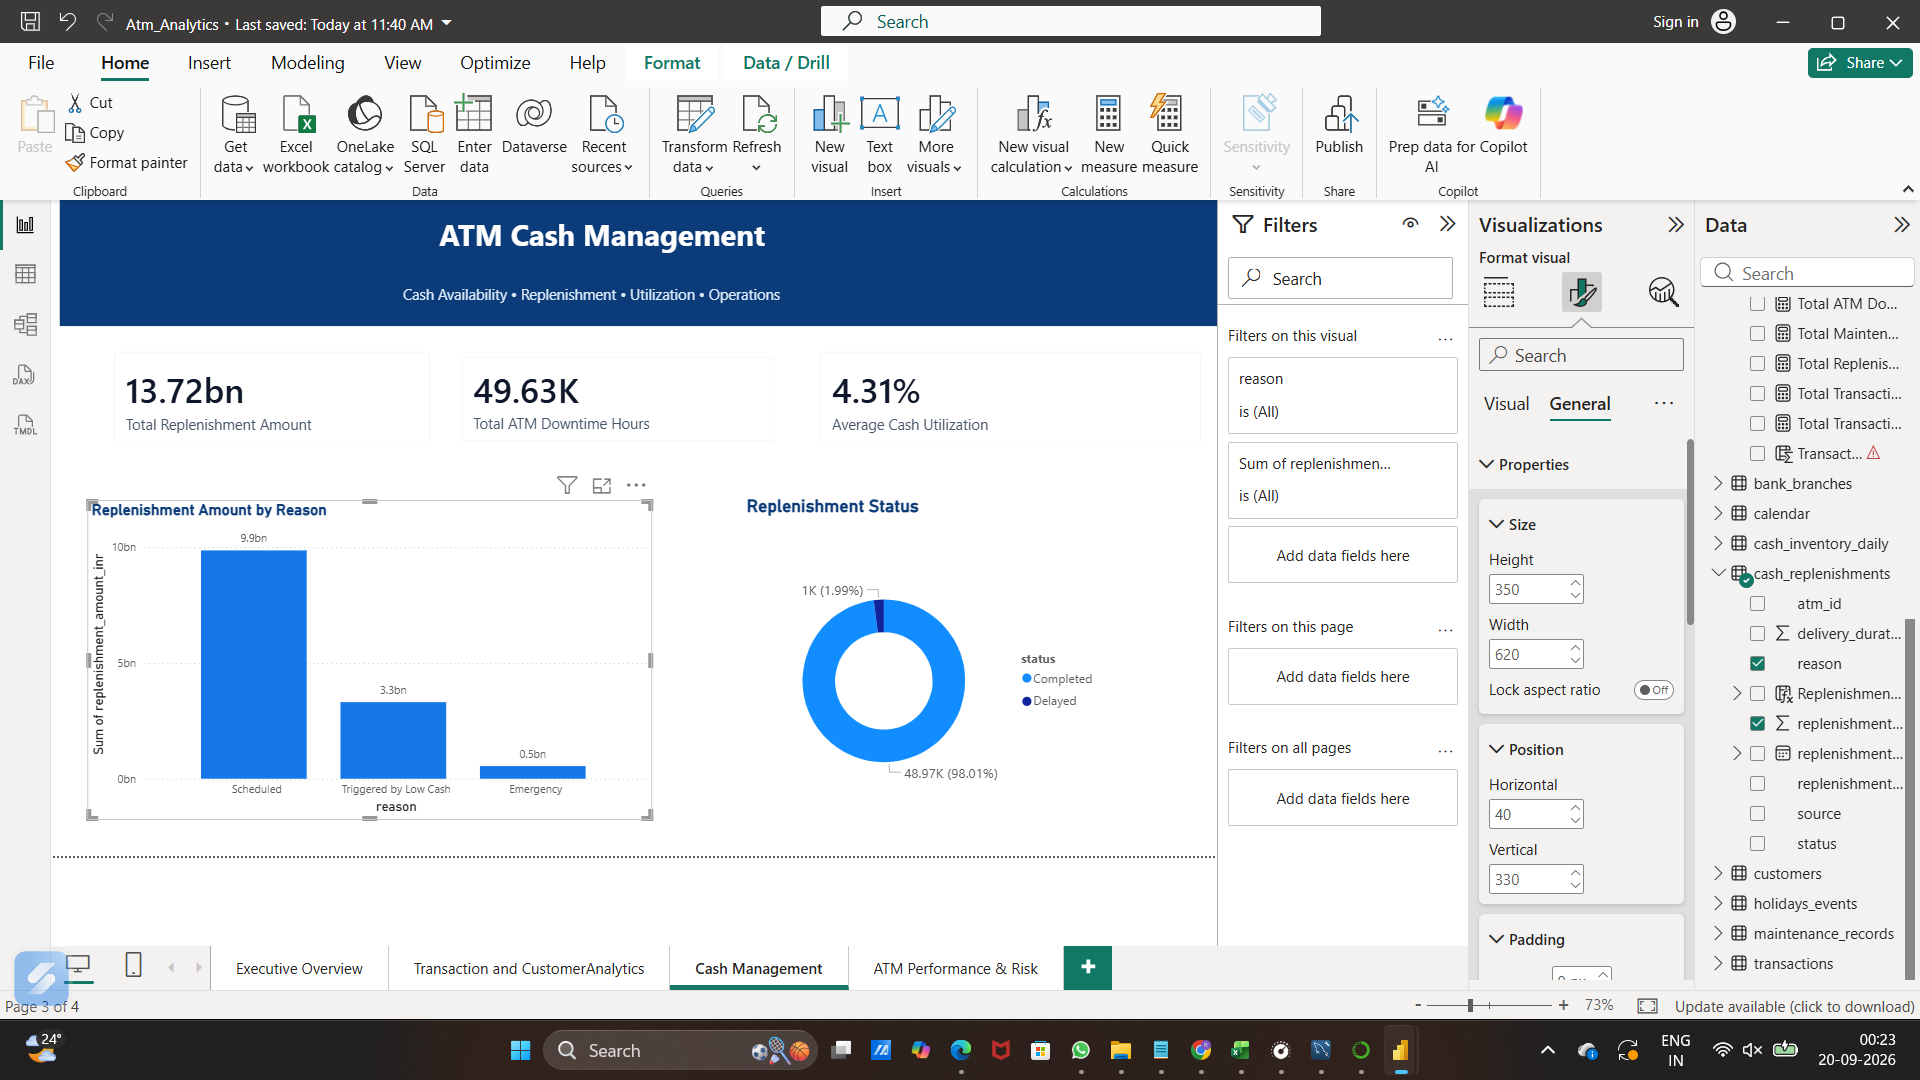

This screenshot's page, from the dashboard's own definition file:
{"tool":"powerbi","page":{"name":"Cash Management","canvas":[1280,720],"ordinal":2},"visuals":[{"type":"textbox","box":[9.6,0,1270.7,127.6],"z":0},{"type":"cardVisual","fields":{"Data":["atm_locations.Total Replenishment Amount"]},"box":[0,137.2,314.2,181.1],"z":1000},{"type":"cardVisual","fields":{"Data":["atm_locations.Total ATM Downtime Hours"]},"box":[452.8,131.7,307.4,192.1],"z":2000},{"type":"cardVisual","fields":{"Data":["atm_locations.Average Cash Utilization"]},"box":[887.8,131.7,307.4,192.1],"z":3000},{"type":"clusteredColumnChart","fields":{"Category":["cash_replenishments.reason"],"Y":["atm_locations.Total Replenishment Amount"]},"box":[30.2,329.3,444.6,391.1],"z":4000},{"type":"clusteredColumnChart","title":" Replenishment status","fields":{"Category":["cash_replenishments.status"],"Y":["atm_locations.Total Replenishment Amount"]},"box":[537.9,329.3,742.4,391.1],"z":5000}]}

Visuals, with their boxes on the page's 1280x720 design canvas (x1, y1, x2, y2). These are canvas units, not pixel positions in the 1920x1080 screenshot, which may show the page scaled, cropped or inside an application window:
textbox: Rect(10, 0, 1280, 128)
cardVisual - atm_locations.Total Replenishment Amount: Rect(0, 137, 314, 318)
cardVisual - atm_locations.Total ATM Downtime Hours: Rect(453, 132, 760, 324)
cardVisual - atm_locations.Average Cash Utilization: Rect(888, 132, 1195, 324)
clusteredColumnChart - cash_replenishments.reason x atm_locations.Total Replenishment Amount: Rect(30, 329, 475, 720)
" Replenishment status" clusteredColumnChart: Rect(538, 329, 1280, 720)
